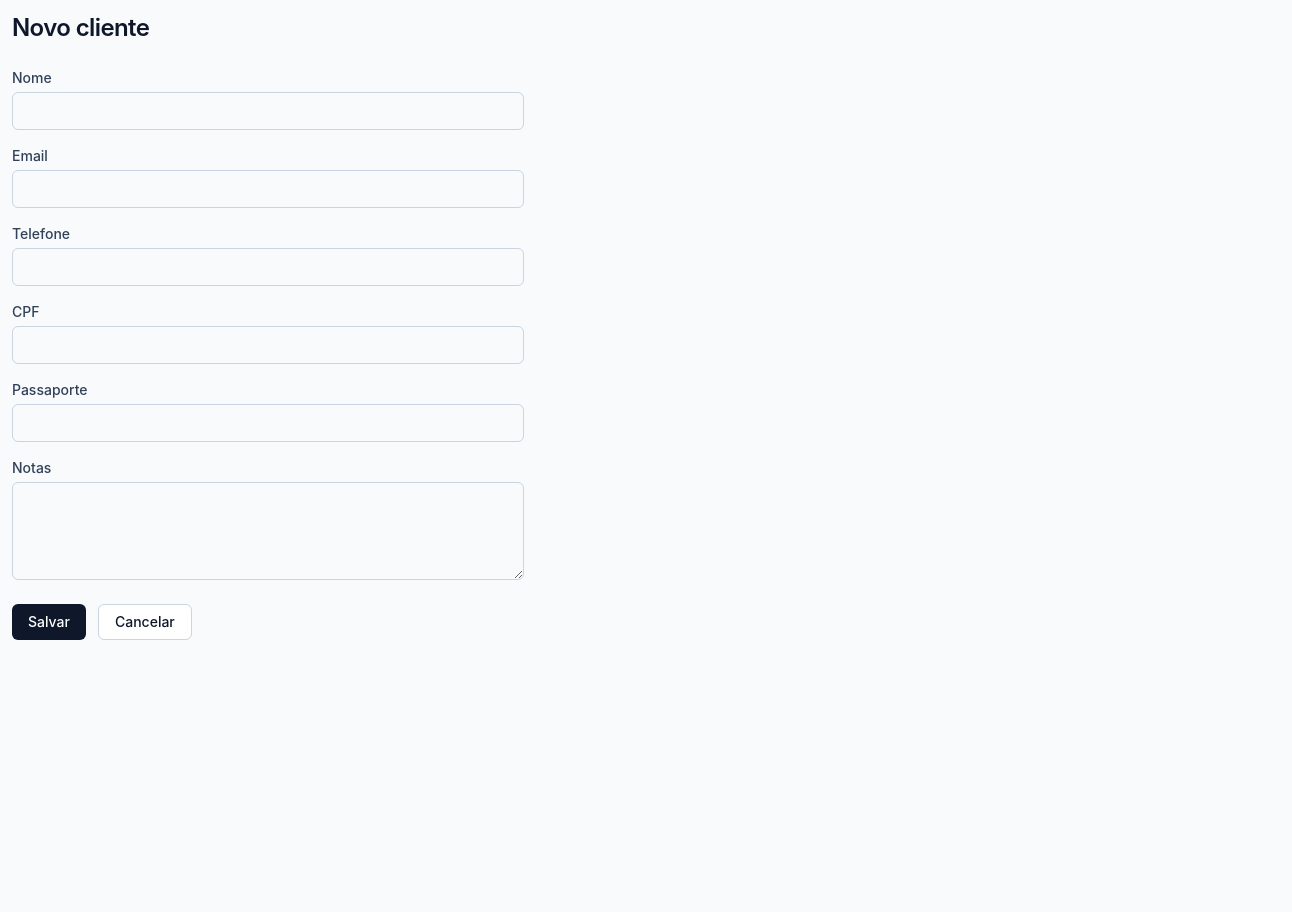
CustomerFormPage › 403 error shows a safe permission message
This screenshot has width=1292, height=912.
Type "Maria Silva" into the field labelled "Nome" at (268, 111), box 12,92 -> 524,130
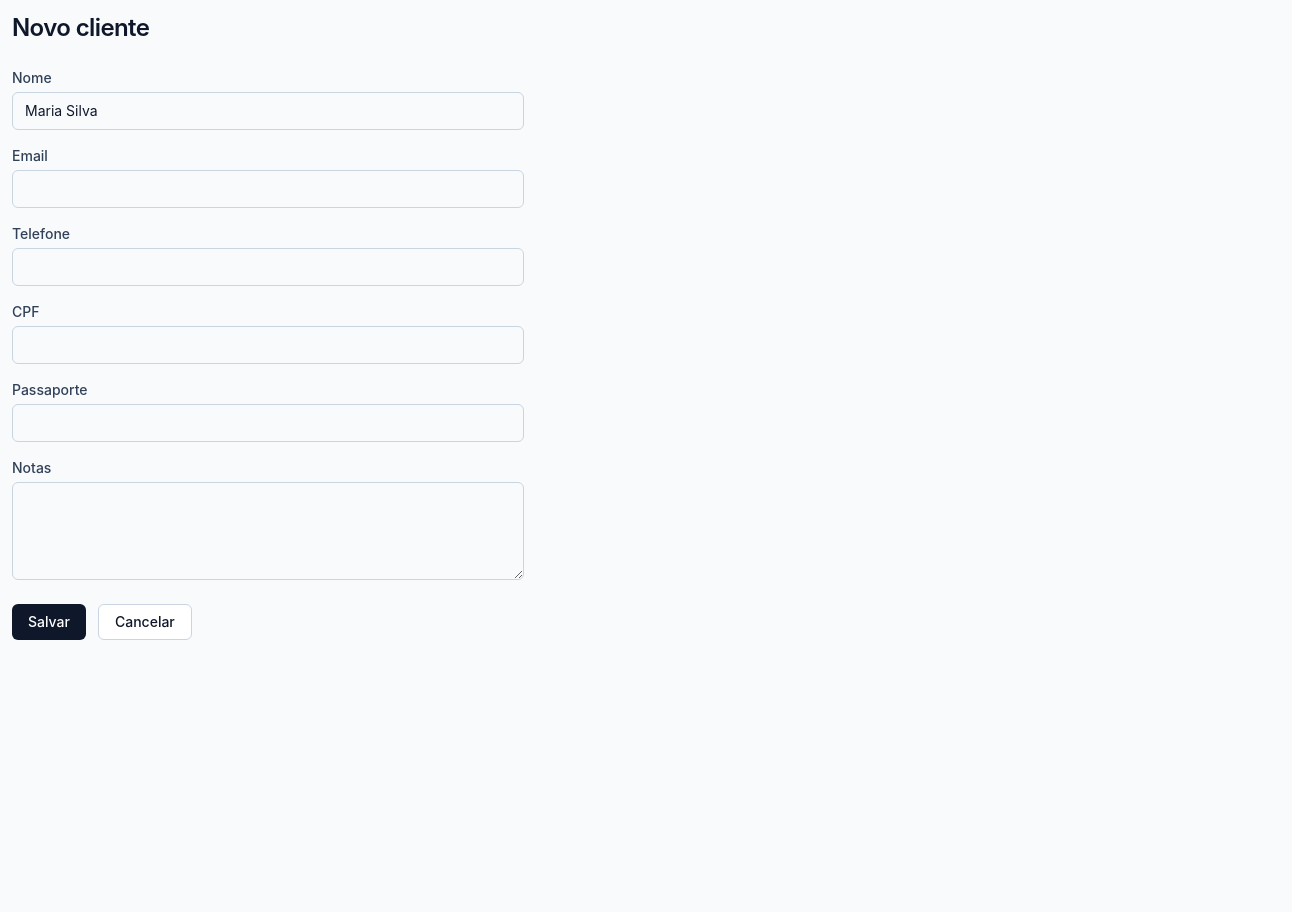
Click the button "Salvar" at (49, 622), box 12,604 -> 86,640
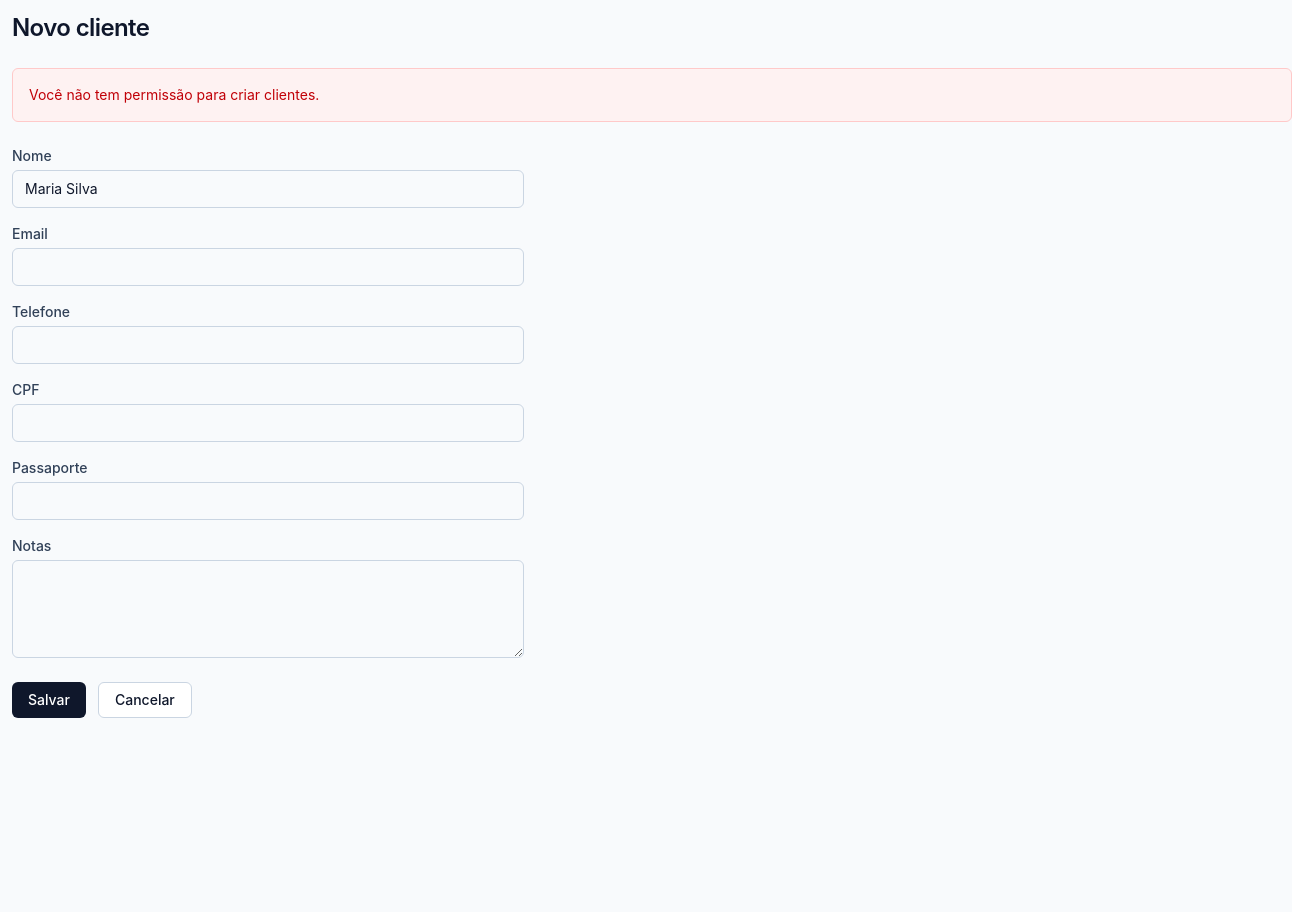
Result: the text "Você não tem permissão para criar clientes." is shown at 12,68 -> 1291,122
